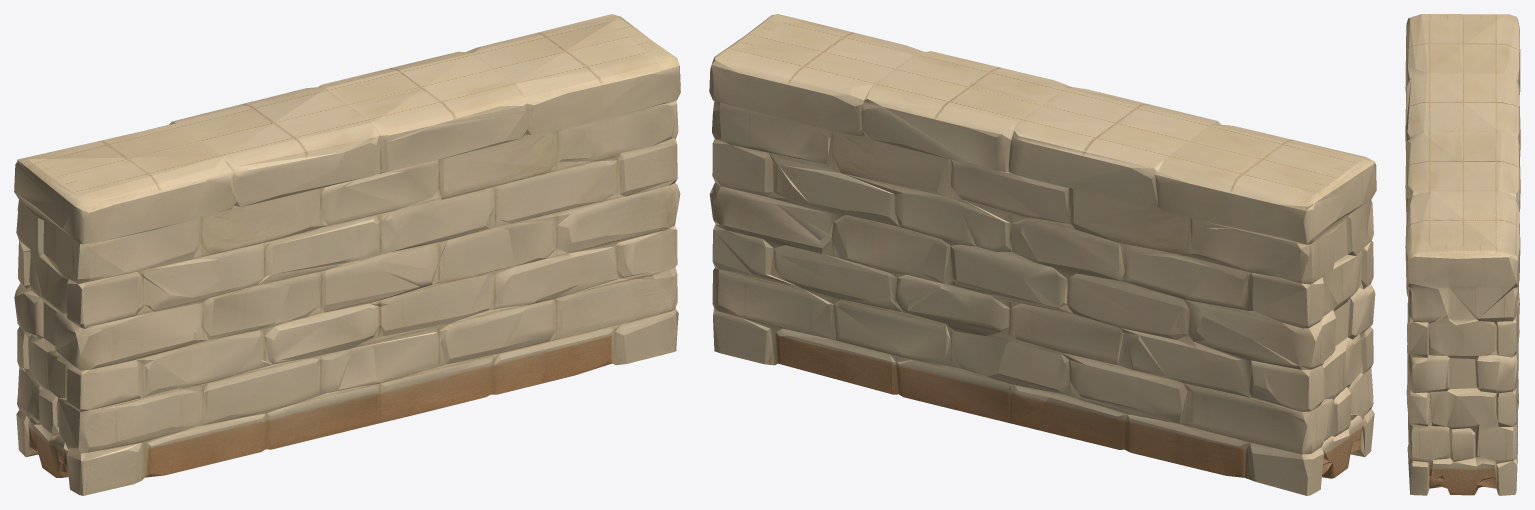
The model's file is wall.glb.
3 renders of one model, left to right at view 1: azimuth 30°, elevation 25°; view 2: azimuth 150°, elevation 25°; view 3: azimuth 270°, elevation 25°, orthographic. The views are drawn at different scales.
Parts seen in each view (by area): view 1: wall, roof; view 2: wall, roof; view 3: wall, roof.
Part boxes in pixels (<box>): wall: <box>14,58,680,495</box>; roof: <box>17,14,676,296</box>; wall: <box>709,25,1376,495</box>; roof: <box>714,14,1374,325</box>; wall: <box>1405,17,1520,495</box>; roof: <box>1406,14,1519,324</box>.
Size of the model in its own units: 3 by 1.4 by 0.6001.
1 material, 1 textured.
